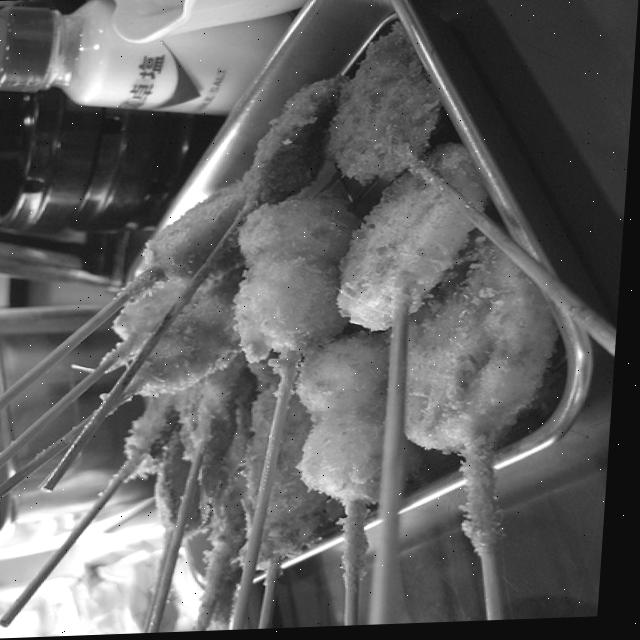蔬菜料理: (0, 118, 604, 628)
